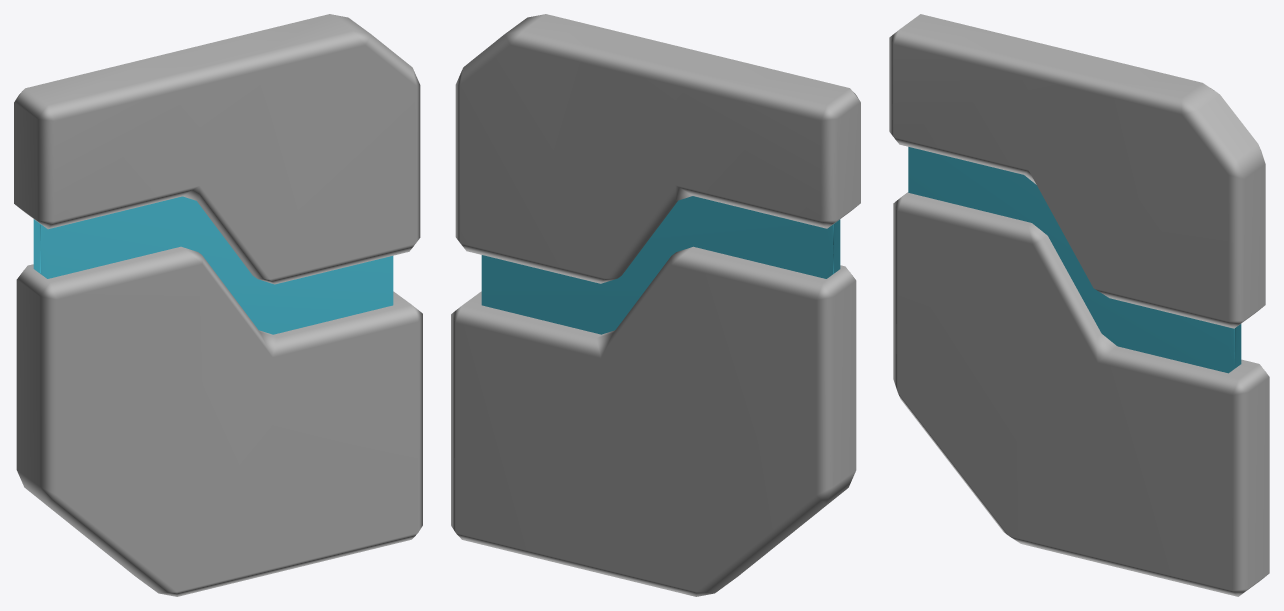
Rendered from panel_004.fbx.
3 renders of one model, left to right at view 1: azimuth 30°, elevation 25°; view 2: azimuth 150°, elevation 25°; view 3: azimuth 330°, elevation 25°, orthographic. The views are drawn at different scales.
Parts seen in each view (by area): view 1: panel_004; view 2: panel_004; view 3: panel_004.
Boxes of the visible parts, <box> form: panel_004: <box>14,14,422,596</box>; panel_004: <box>451,14,860,596</box>; panel_004: <box>889,14,1269,596</box>.
Bounding box in the file's own units: 561 × 91.64 × 727.
